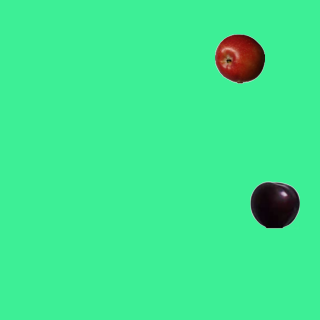Apple Braeburn: (214, 33, 264, 83)
Cherry Wax Black: (249, 179, 299, 229)
